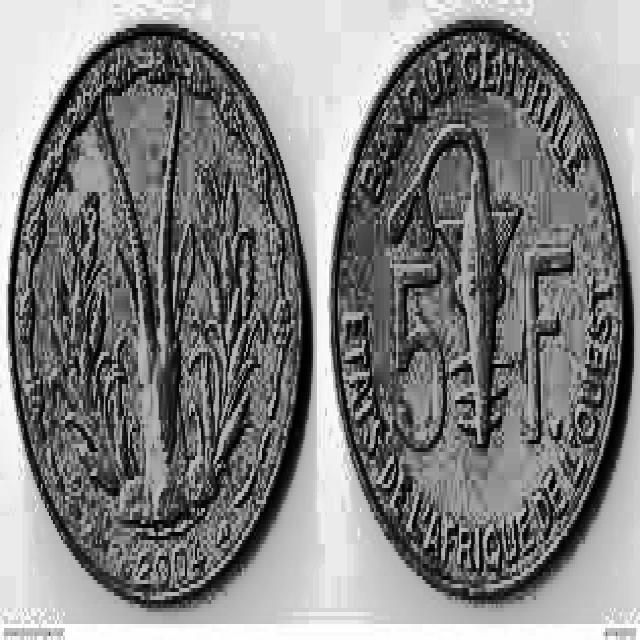derem: (10, 27, 303, 598), (333, 22, 624, 596)
